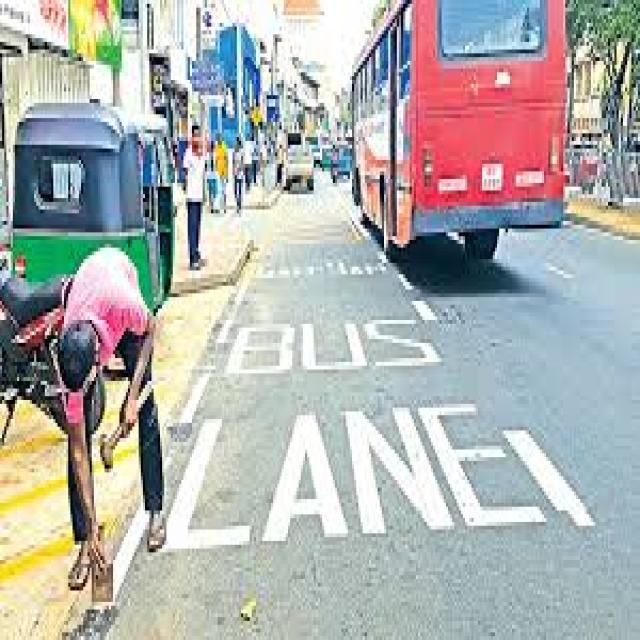bus: (352, 0, 561, 259)
motorcycle: (0, 274, 102, 446)
person: (58, 248, 162, 590), (183, 126, 203, 270), (218, 137, 241, 213), (207, 141, 226, 213), (215, 145, 226, 179)
three wheeler: (11, 103, 171, 312)
